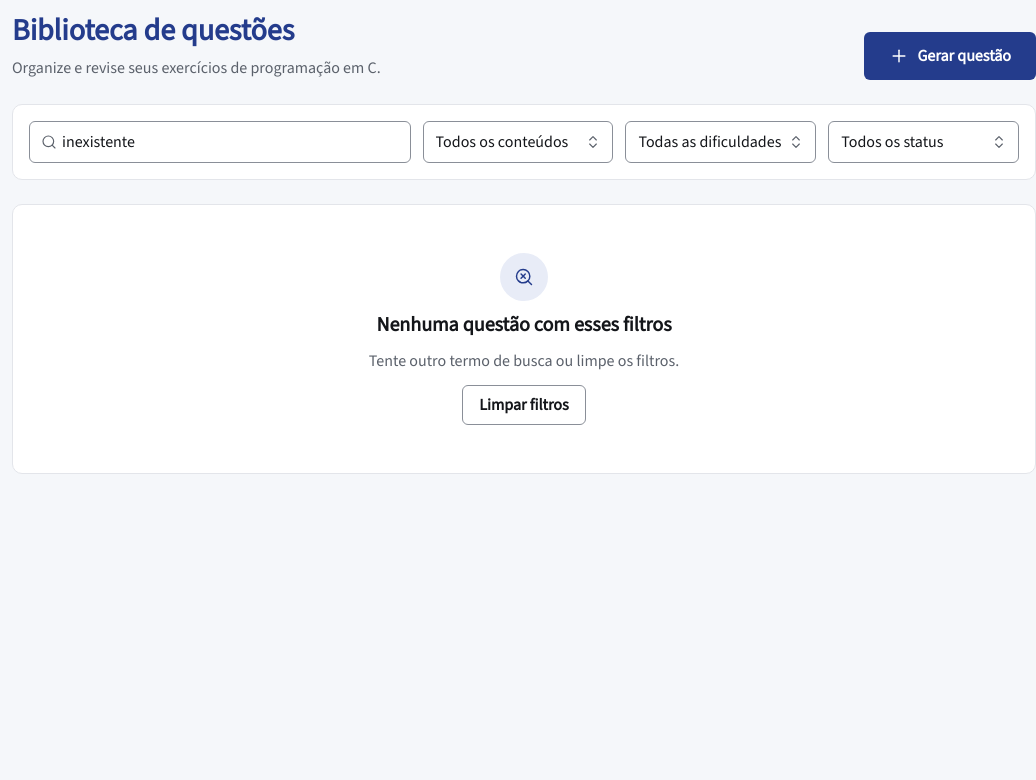
LibraryView › orienta quando o filtro não encontra nada e limpa os filtros
Expected: the heading "Nenhuma questão com esses filtros" is shown, [376,313,672,337]
Click the button "Limpar filtros" at (524, 405), box [462,385,586,425]
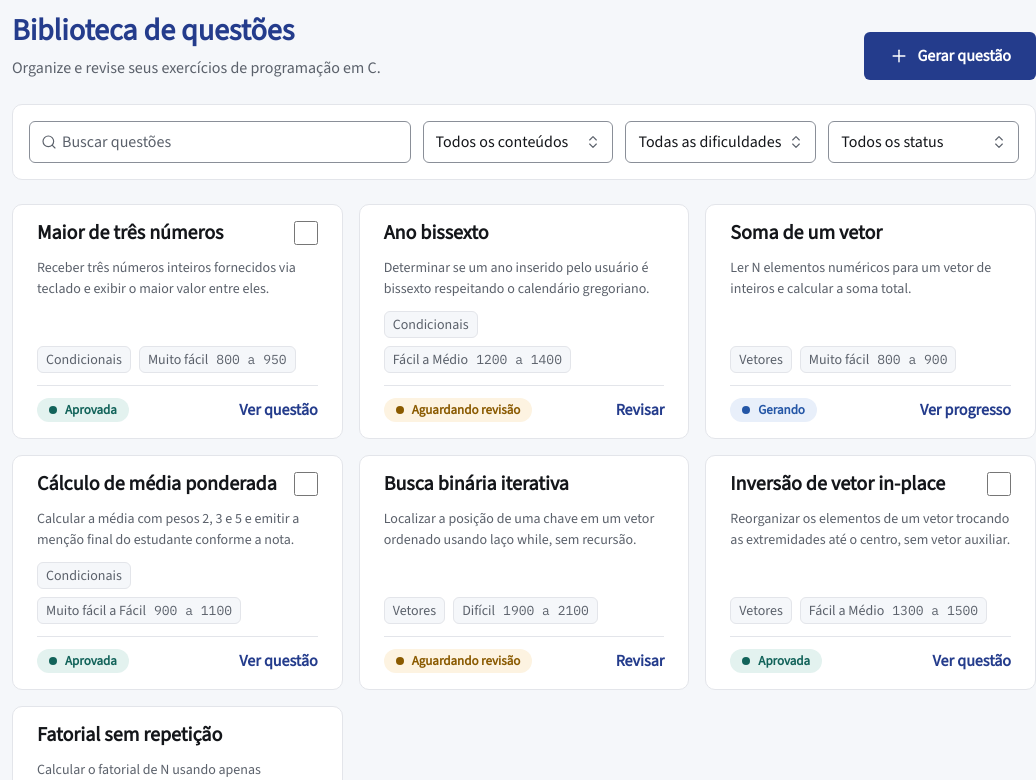
Expected: the search field is empty, [29,121,411,163]
